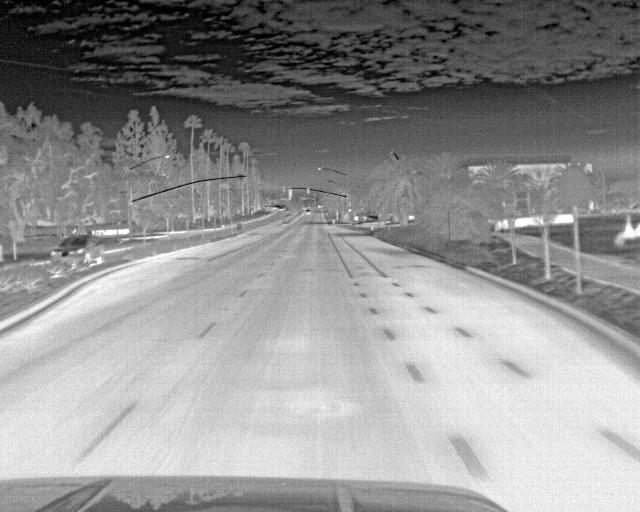car: (47, 233, 101, 265)
